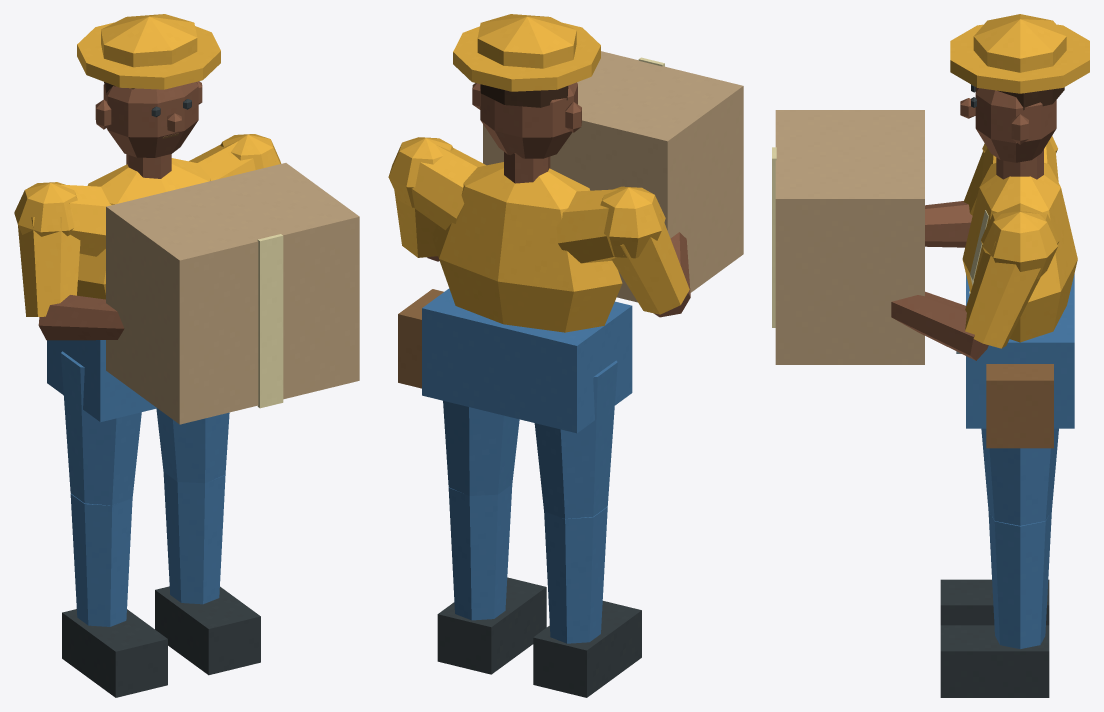
Rendered from WorkerMale.glb.
3 views of the same model, side by side, from view 1: azimuth 30°, elevation 25°; view 2: azimuth 150°, elevation 25°; view 3: azimuth 270°, elevation 25° (orthographic). The views are drawn at different scales.
Parts seen in each view (by area): view 1: Carried original parcel 035, Trouser upper leg 012, Trouser lower leg 013, Trouser lower leg 021, Original flat sole shoe 014, Original flat sole shoe 022, Neutral face 004, Parcel center tape 036, Hard hat brim 031, Hard hat crown 032, Clothed upper sleeve 017, Trouser waistband 002 (+8 smaller); view 2: Carried original parcel 035, Clothed torso 001, Trouser waistband 002, Trouser upper leg 012, Trouser lower leg 013, Trouser lower leg 021, Original flat sole shoe 014, Original flat sole shoe 022, Trouser upper leg 020, Hard hat brim 031, Hard hat crown 032, Neutral face 004 (+10 smaller); view 3: Carried original parcel 035, Clothed torso 001, Trouser lower leg 021, Original flat sole shoe 022, Tool belt pouch 034, Trouser waistband 002, Trouser upper leg 020, Hard hat brim 031, Clothed upper sleeve 025, Hard hat crown 032, Neutral face 004, Clothed shoulder cap 024 (+9 smaller).
Part boxes in pixels (x1,y1,x2,y2): Carried original parcel 035: [106, 163, 359, 424]; Trouser upper leg 012: [61, 351, 141, 505]; Trouser lower leg 013: [70, 494, 132, 626]; Trouser lower leg 021: [163, 472, 225, 604]; Original flat sole shoe 014: [62, 609, 167, 697]; Original flat sole shoe 022: [155, 586, 260, 675]; Neutral face 004: [103, 82, 198, 157]; Parcel center tape 036: [257, 234, 283, 408]; Hard hat brim 031: [77, 22, 220, 89]; Hard hat crown 032: [101, 14, 197, 67]; Clothed upper sleeve 017: [18, 217, 80, 316]; Trouser waistband 002: [47, 340, 156, 422]; Carried original parcel 035: [483, 51, 743, 302]; Clothed torso 001: [432, 162, 622, 332]; Trouser waistband 002: [422, 288, 632, 433]; Trouser upper leg 012: [534, 360, 617, 518]; Trouser lower leg 013: [544, 506, 607, 643]; Trouser lower leg 021: [448, 484, 512, 620]; Original flat sole shoe 014: [533, 601, 641, 697]; Original flat sole shoe 022: [437, 577, 546, 674]; Trouser upper leg 020: [443, 400, 519, 495]; Hard hat brim 031: [453, 22, 600, 91]; Hard hat crown 032: [477, 14, 576, 68]; Neutral face 004: [480, 82, 577, 158]; Carried original parcel 035: [775, 110, 924, 364]; Clothed torso 001: [962, 163, 1077, 342]; Trouser lower leg 021: [988, 510, 1051, 649]; Original flat sole shoe 022: [940, 625, 1049, 697]; Tool belt pouch 034: [986, 364, 1053, 448]; Trouser waistband 002: [966, 274, 1074, 428]; Trouser upper leg 020: [981, 428, 1058, 525]; Hard hat brim 031: [950, 24, 1089, 93]; Clothed upper sleeve 025: [965, 241, 1040, 348]; Hard hat crown 032: [973, 14, 1066, 72]; Neutral face 004: [975, 87, 1056, 162]; Clothed shoulder cap 024: [982, 211, 1057, 278].
Bounding box in the file's own units: 0.8493 × 1.88 × 0.8428.
9 materials, 9 textured.
